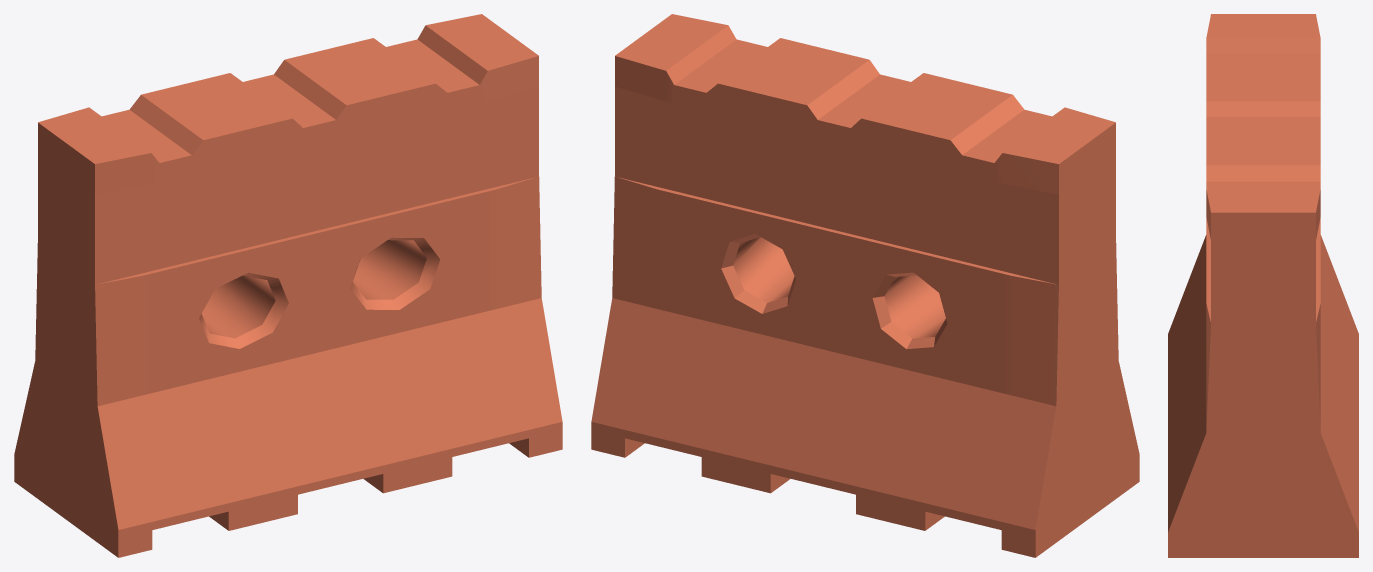
File: barrier.fbx
3 renders of one model, left to right at view 1: azimuth 30°, elevation 25°; view 2: azimuth 150°, elevation 25°; view 3: azimuth 270°, elevation 25°, orthographic. The views are drawn at different scales.
Parts seen in each view (by area): view 1: barrier; view 2: barrier; view 3: barrier.
Part boxes in pixels (bbox=[...]): barrier: bbox=[14, 14, 562, 557]; barrier: bbox=[591, 14, 1139, 557]; barrier: bbox=[1168, 14, 1358, 557].
Bounding box in the file's own units: 186 × 150 × 75.36.
1 material, 1 textured.
